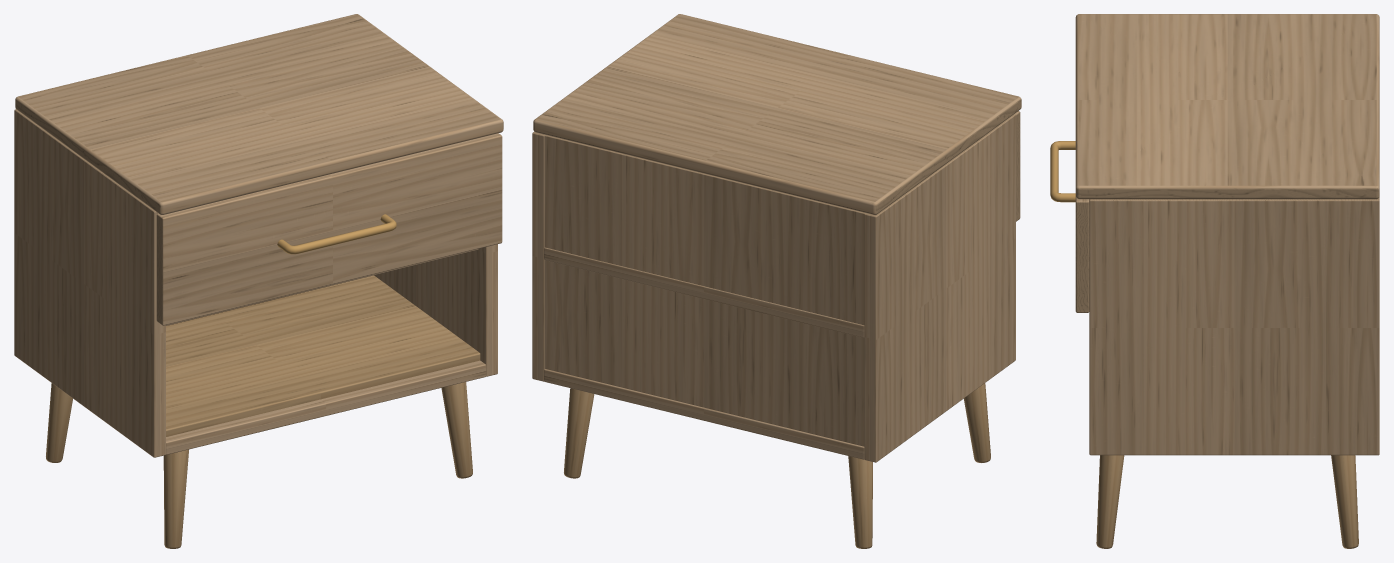
3 views of the same model, side by side, from view 1: azimuth 30°, elevation 25°; view 2: azimuth 150°, elevation 25°; view 3: azimuth 270°, elevation 25° (orthographic). The views are drawn at different scales.
Visible parts, largest first — view 1: top, drawer_front_0, side_left, base_frame, side_right, bottom, leg_-1_1, leg_1_1, leg_-1_-1, handle_0; view 2: back_panel, top, side_left, bottom, niche_shelf, side_right, leg_-1_-1, leg_1_-1, leg_-1_1; view 3: side_right, top, leg_1_1, leg_1_-1, drawer_front_0, handle_0.
Boxes of the visible parts, x1=… form: top: x1=15, y1=14, x2=503, y2=214; drawer_front_0: x1=156, y1=133, x2=502, y2=325; side_left: x1=14, y1=109, x2=165, y2=457; base_frame: x1=166, y1=275, x2=480, y2=436; side_right: x1=374, y1=244, x2=497, y2=376; bottom: x1=166, y1=360, x2=486, y2=454; leg_-1_1: x1=163, y1=449, x2=188, y2=548; leg_1_1: x1=441, y1=382, x2=472, y2=478; leg_-1_-1: x1=46, y1=383, x2=72, y2=462; handle_0: x1=277, y1=214, x2=396, y2=254; back_panel: x1=544, y1=135, x2=865, y2=446; top: x1=533, y1=14, x2=1021, y2=214; side_left: x1=864, y1=114, x2=1015, y2=462; bottom: x1=544, y1=369, x2=864, y2=459; niche_shelf: x1=544, y1=247, x2=864, y2=337; side_right: x1=532, y1=131, x2=544, y2=381; leg_-1_-1: x1=848, y1=456, x2=872, y2=548; leg_1_-1: x1=564, y1=388, x2=594, y2=478; leg_-1_1: x1=964, y1=383, x2=990, y2=462; side_right: x1=1089, y1=197, x2=1379, y2=455; top: x1=1075, y1=14, x2=1379, y2=199; leg_1_1: x1=1096, y1=455, x2=1124, y2=548; leg_1_-1: x1=1331, y1=455, x2=1358, y2=548; drawer_front_0: x1=1075, y1=196, x2=1089, y2=312; handle_0: x1=1050, y1=141, x2=1075, y2=202.
Bounding box in the file's own units: 0.5 × 0.5 × 0.4.
5 materials, 4 textured.
